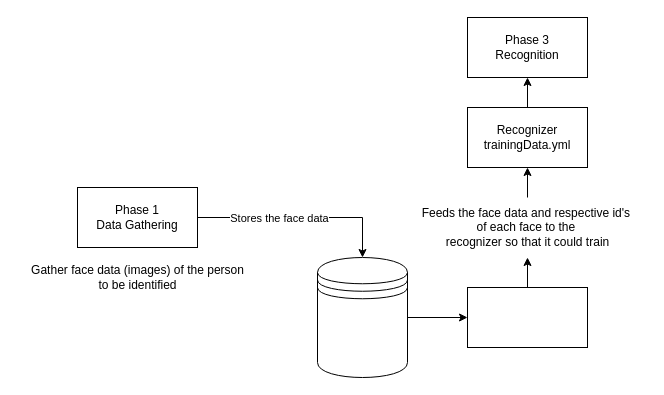
This 664x395 diagram has some shape labels left out. Each missing label, with the centre of its shape:
"Dataset" goes at (362,317).
"Phase 2 Train the recognizer" goes at (527,317).
